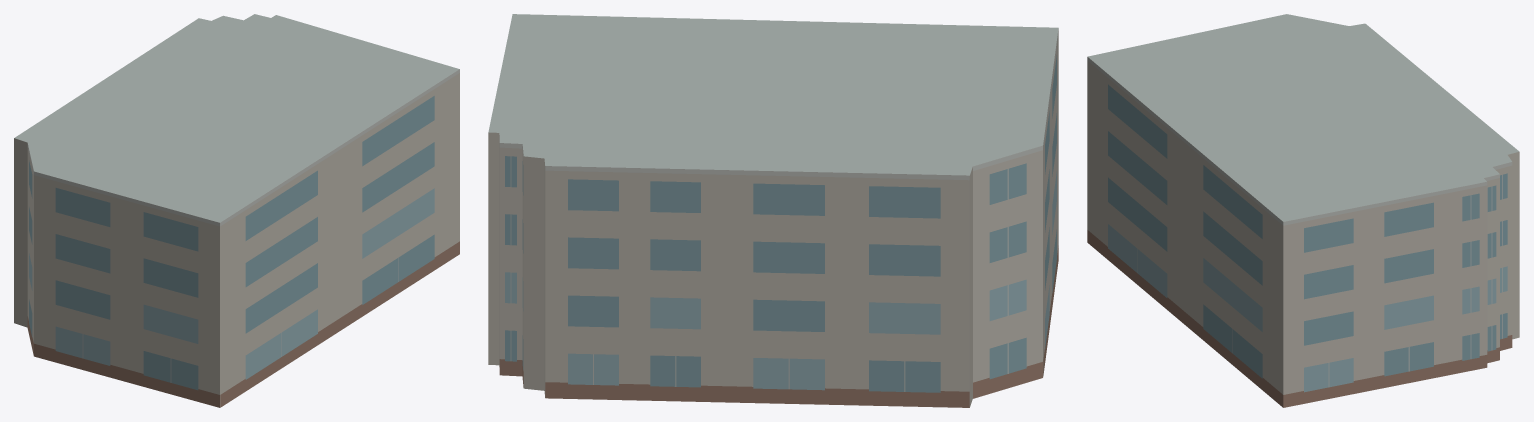
Rendered from survey-upis-32948446.glb.
The picture shows the model from 3 angles, left to right: view 1: azimuth 30°, elevation 25°; view 2: azimuth 150°, elevation 25°; view 3: azimuth 270°, elevation 25°; orthographic projection. The views are drawn at different scales.
Visible parts, largest first — view 1: survey-upis-32948446.tmp; view 2: survey-upis-32948446.tmp; view 3: survey-upis-32948446.tmp.
Boxes of the visible parts, left/top/right/bottom form: survey-upis-32948446.tmp: left=14, top=14, right=459, bottom=407; survey-upis-32948446.tmp: left=488, top=14, right=1058, bottom=407; survey-upis-32948446.tmp: left=1087, top=14, right=1519, bottom=407.
Size of the model in its own units: 29.27 by 12.2 by 25.71.
